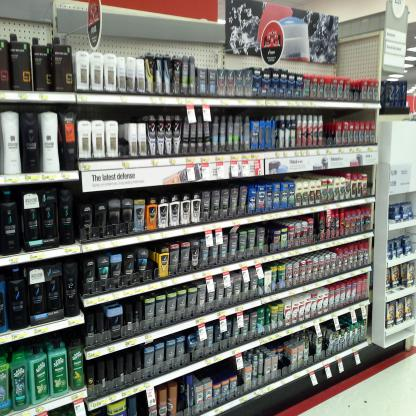Void: (118, 124, 129, 154), (212, 363, 235, 377), (137, 396, 146, 414), (265, 226, 272, 249), (313, 216, 319, 240), (326, 116, 330, 142)
